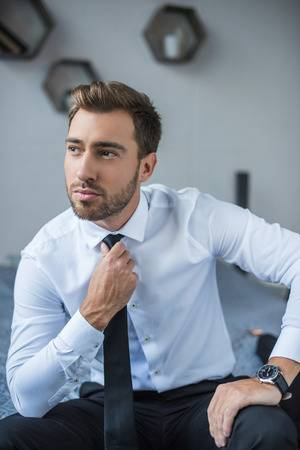F_shirt: (6, 187, 300, 417)
F_tie: (93, 234, 141, 442)
